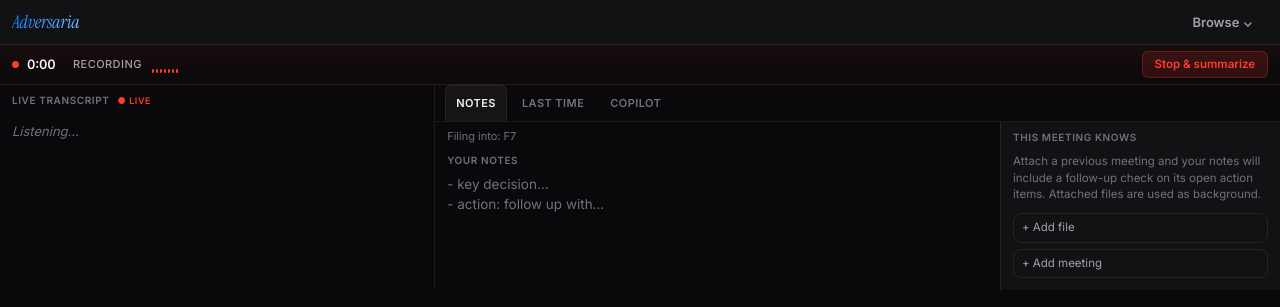
RecordingCompanion folderWebEnabled from brief › already-enabled folder loads as checked
Click the tab "Last time".
click(553, 103)  # box [511, 85, 595, 121]
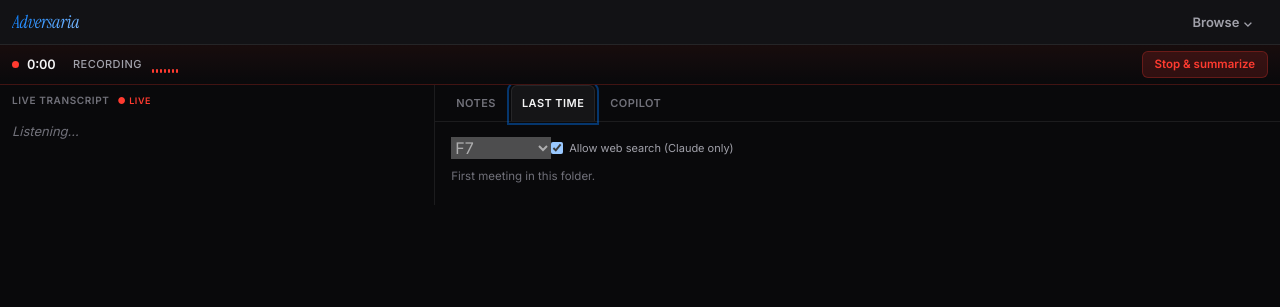
Check: the checkbox labelled "Allow web search (Claude only)" is checked, box [551, 142, 563, 154]
Check: the checkbox labelled "Allow web search (Claude only)" is enabled, box [551, 142, 563, 154]
